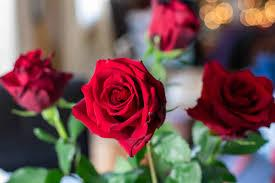Rose: (73, 55, 171, 156), (197, 54, 274, 144), (6, 45, 72, 118)
